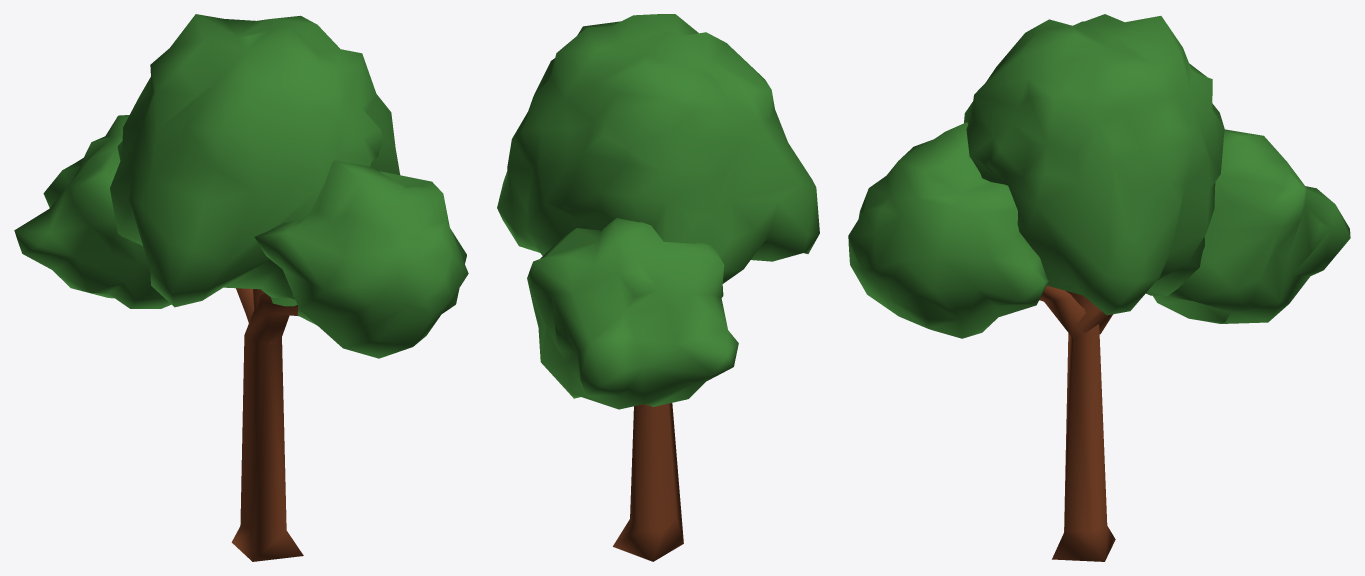
The model's file is tree.fbx.
The picture shows the model from 3 angles, left to right: view 1: azimuth 30°, elevation 25°; view 2: azimuth 150°, elevation 25°; view 3: azimuth 270°, elevation 25°; orthographic projection.
Visible parts, largest first — view 1: Cylinder.021; view 2: Cylinder.021; view 3: Cylinder.021.
Boxes of the visible parts, x1=… form: Cylinder.021: x1=14, y1=14, x2=468, y2=561; Cylinder.021: x1=497, y1=14, x2=819, y2=561; Cylinder.021: x1=848, y1=14, x2=1350, y2=561.
Bounding box in the file's own units: 755 × 1255 × 1091.
